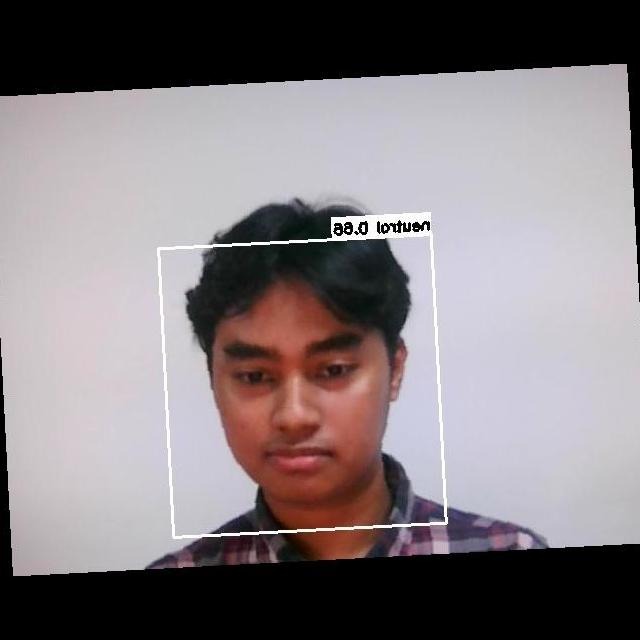Natural: (219, 324, 375, 485)
